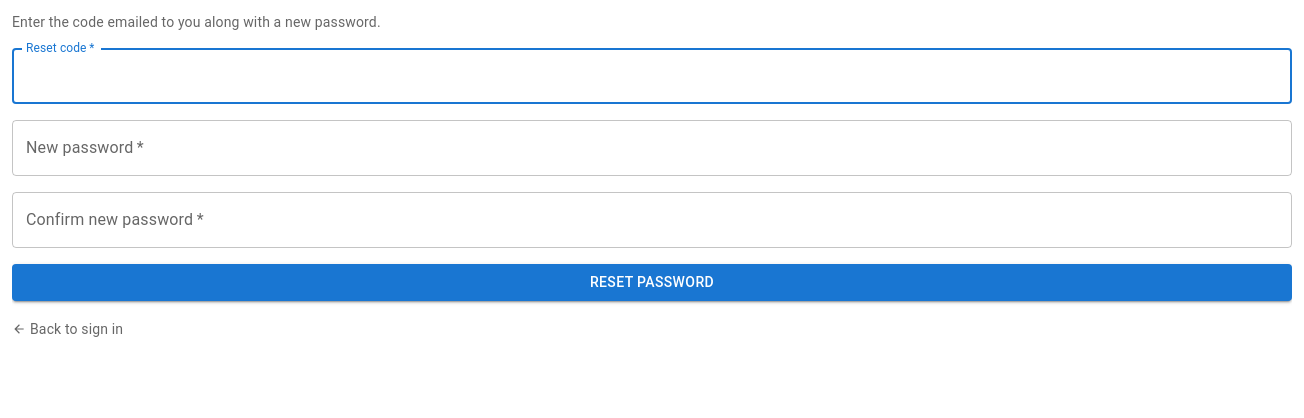
it: ConfirmForgotPasswordStep › shows the server error message when the reset code is invalid
Type "wrong" into the field labelled "Reset code *". click: (652, 76)
box: [12,48,1292,104]
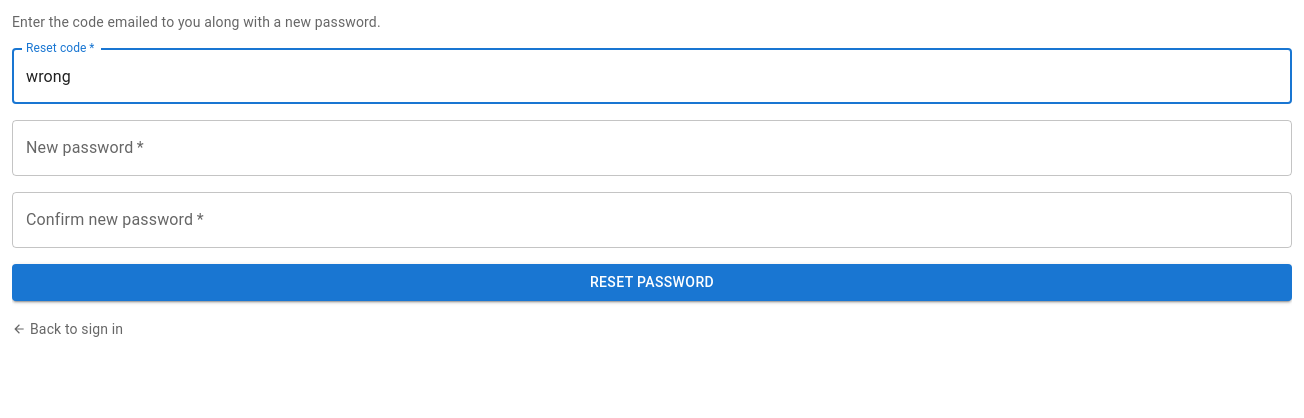
Type "NewStrongPass1!" into the password field labelled "New password *". click: (652, 148)
box: [12,120,1292,176]
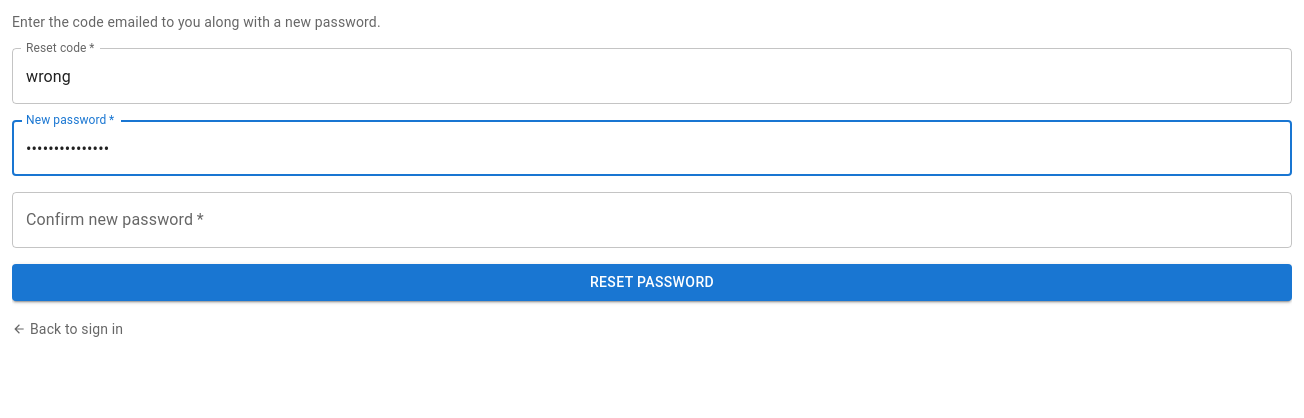
Type "NewStrongPass1!" into the password field labelled "Confirm new password *". click: (652, 220)
box: [12,192,1292,248]
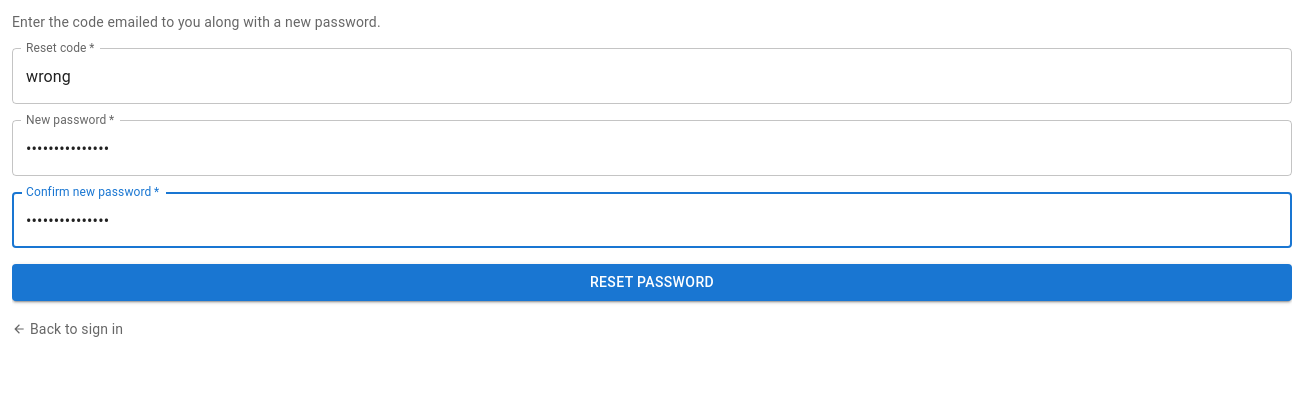
Click the button "Reset password". click: click(652, 282)
box: [12,264,1292,300]
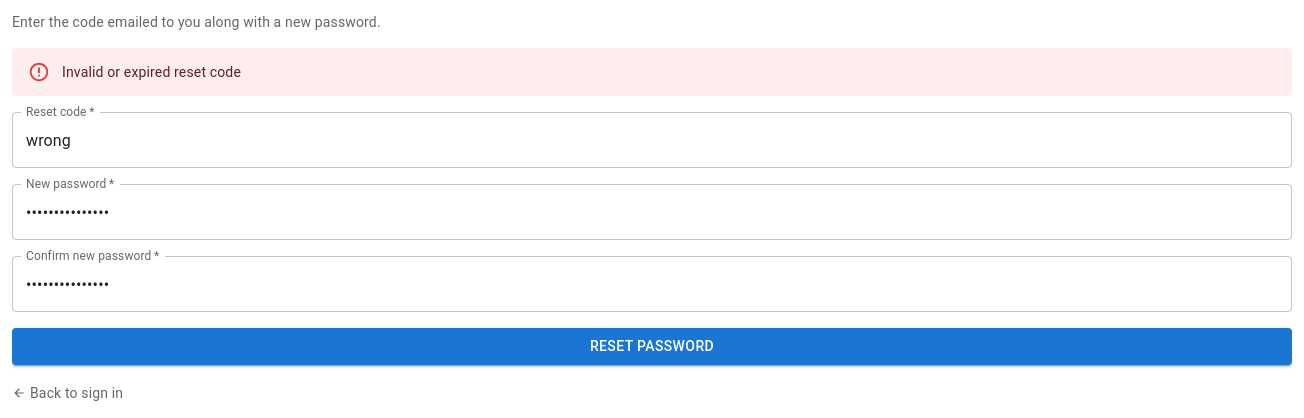
expect the text "Invalid or expired reset code" is shown: met, box [62,64,241,80]
